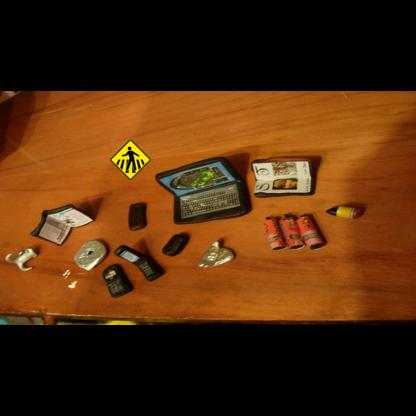A-32b: (110, 139, 151, 180)
